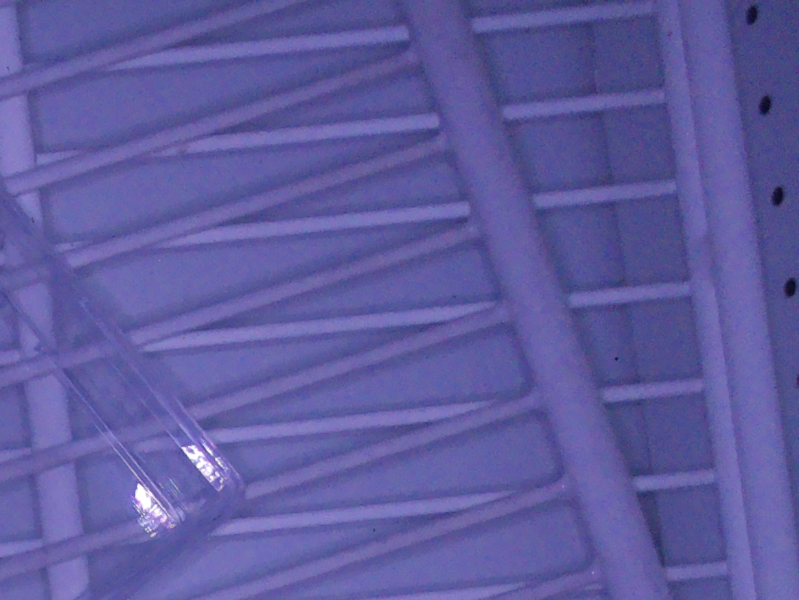plate: (1, 181, 248, 599)
